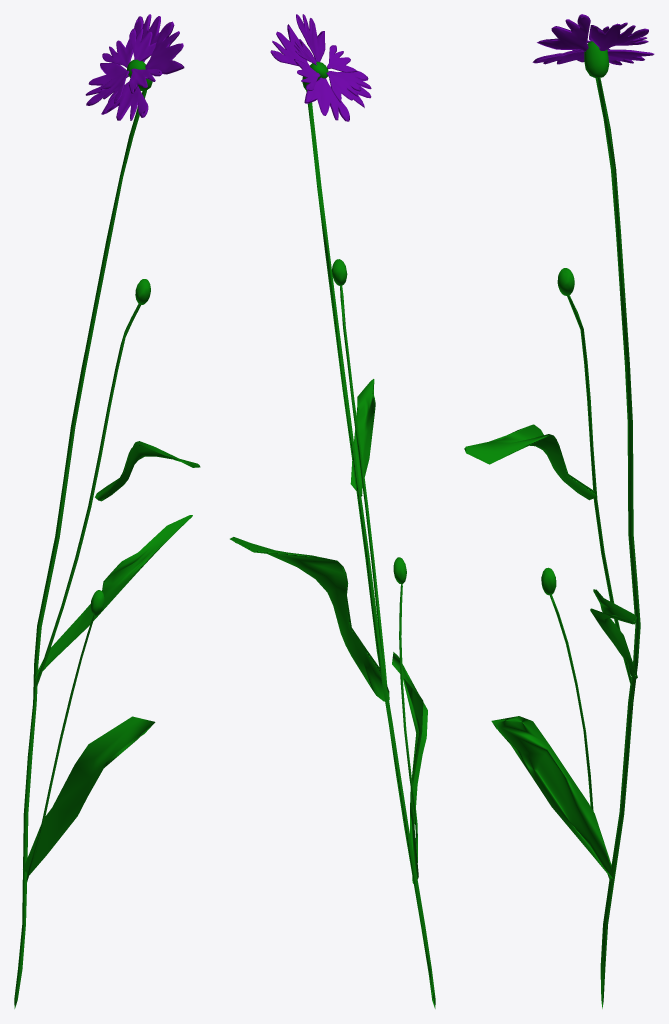
File: corn_flower.fbx
3 views of the same model, side by side, from view 1: azimuth 30°, elevation 25°; view 2: azimuth 150°, elevation 25°; view 3: azimuth 270°, elevation 25° (orthographic). The views are drawn at different scales.
Parts seen in each view (by area): view 1: chabr:Line186, chabr:Line178, chabr:Line189, chabr:Line175, chabr:Line187, polySurface6, polySurface2, chabr:Line181, polySurface4, polySurface8, polySurface10, polySurface9 (+2 smaller); view 2: chabr:Line178, chabr:Line189, chabr:Line186, chabr:Line187, chabr:Line175, polySurface4, chabr:Line181, polySurface5, polySurface6, polySurface2, polySurface7; view 3: chabr:Line178, chabr:Line186, chabr:Line187, chabr:Line175, chabr:Line189, polySurface6, polySurface5, chabr:Line181, pCylinder1, polySurface4, polySurface2.
Part boxes in pixels (bbox=[...]): chabr:Line186: bbox=[23, 716, 155, 874]; chabr:Line178: bbox=[14, 90, 146, 1008]; chabr:Line189: bbox=[34, 515, 192, 678]; chabr:Line175: bbox=[36, 304, 140, 686]; chabr:Line187: bbox=[95, 441, 200, 501]; polySurface6: bbox=[145, 21, 184, 74]; polySurface2: bbox=[101, 81, 148, 120]; chabr:Line181: bbox=[26, 615, 94, 881]; polySurface4: bbox=[85, 63, 128, 105]; polySurface8: bbox=[129, 28, 156, 61]; polySurface10: bbox=[102, 39, 132, 67]; polySurface9: bbox=[128, 68, 162, 94]; chabr:Line178: bbox=[306, 91, 435, 1008]; chabr:Line189: bbox=[230, 537, 389, 701]; chabr:Line186: bbox=[392, 652, 427, 883]; chabr:Line187: bbox=[350, 379, 375, 496]; chabr:Line175: bbox=[340, 285, 387, 685]; polySurface4: bbox=[304, 77, 349, 121]; chabr:Line181: bbox=[399, 584, 417, 862]; polySurface5: bbox=[270, 24, 309, 66]; polySurface6: bbox=[296, 14, 325, 61]; polySurface2: bbox=[328, 70, 371, 107]; polySurface7: bbox=[326, 72, 361, 102]; chabr:Line178: bbox=[595, 77, 640, 1008]; chabr:Line186: bbox=[491, 716, 613, 878]; chabr:Line187: bbox=[464, 424, 595, 500]; chabr:Line175: bbox=[567, 295, 631, 685]; chabr:Line189: bbox=[590, 589, 637, 678]; polySurface6: bbox=[537, 14, 590, 51]; polySurface5: bbox=[589, 23, 648, 50]; chabr:Line181: bbox=[550, 595, 610, 881]; pCylinder1: bbox=[584, 41, 609, 78]; polySurface4: bbox=[607, 49, 654, 65]; polySurface2: bbox=[532, 49, 584, 64].
Bounding box in the file's own units: 19.93 × 94.67 × 15.16.
